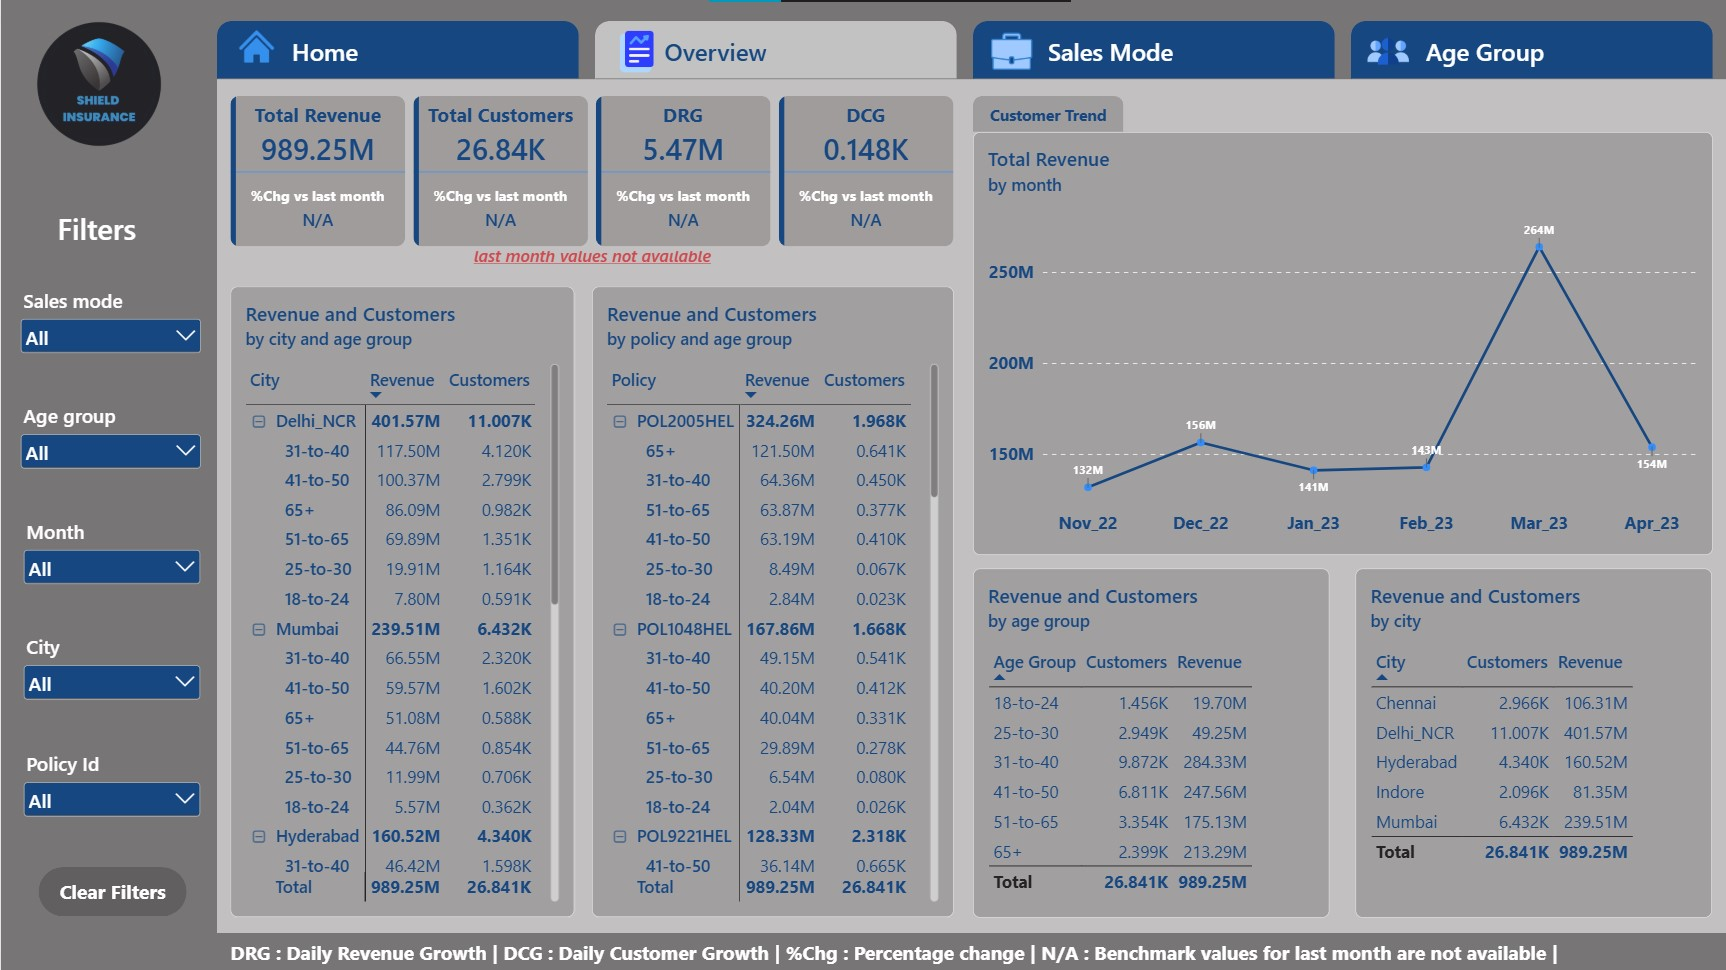

Layout of this report page (visuals, bound fields, positions):
{"tool":"powerbi","page":{"name":" Overview","canvas":[1920,1080],"ordinal":1},"visuals":[{"type":"lineChart","title":"Total Revenue","fields":{"Category":["dim_date.mmm_yy"],"Y":["key_measures.total_revenue"]},"box":[1080.7,147.3,822,469.7],"z":0,"group":"g1"},{"type":"tableEx","title":"Revenue and Customers","fields":{"Values":["dim_customer.city","key_measures.total_customers","key_measures.total_revenue"]},"box":[1504.6,630.9,396.1,388.1],"z":0},{"type":"actionButton","box":[1080.7,107.5,167.2,39.8],"z":1000,"group":"g1"},{"type":"tableEx","title":"Revenue and Customers","fields":{"Values":["dim_age_group.age_group","key_measures.total_customers","key_measures.total_revenue"]},"box":[1080.7,630.9,396.1,388.1],"z":1000},{"type":"pivotTable","title":"Revenue and Customers","fields":{"Rows":["dim_customer.city","dim_age_group.age_group"],"Values":["key_measures.total_revenue","key_measures.total_customers"]},"box":[254.7,318.4,382.1,700.6],"z":2000},{"type":"shape","box":[0,0,240,1080],"z":3000},{"type":"slicer","fields":{"Values":["fact_premiums.sales_mode"]},"box":[16,318.8,210,84],"z":4000},{"type":"slicer","fields":{"Values":["dim_age_group.age_group"]},"box":[16,447.1,210,84],"z":5000},{"type":"slicer","fields":{"Values":["dim_customer.city"]},"box":[20,703.5,206,86],"z":6000},{"type":"slicer","fields":{"Values":["dim_date.mmm_yy"]},"box":[20,575.3,206,84],"z":7000},{"type":"slicer","fields":{"Values":["dim_policies.policy_id"]},"box":[20,833.8,206,86],"z":8000},{"type":"image","box":[33.3,17.7,151,150],"z":9000},{"type":"shape","box":[240,0,1680,88],"z":10000},{"type":"pageNavigator","box":[240,24,1664,64],"z":11000},{"type":"actionButton","box":[42,964,164.7,54.9],"z":12000},{"type":"textbox","box":[58.8,231.4,96.1,43.1],"z":13000},{"type":"cardVisual","fields":{"Data":["key_measures.total_revenue","key_measures.total_customers","key_measures.DRG","key_measures.DCG"]},"box":[254.7,107.5,804,167.2],"z":14000},{"type":"shape","box":[240.8,1036.9,1679.7,43.8],"z":15000},{"type":"textbox","box":[254.7,1042.9,1649.9,29.9],"z":16000},{"type":"pivotTable","title":"Revenue and Customers","fields":{"Rows":["dim_policies.policy_id","dim_age_group.age_group"],"Values":["key_measures.total_revenue","key_measures.total_customers"]},"box":[656.8,318.4,402,700.6],"z":17000},{"type":"card","fields":{"Values":["key_measures.BM message"]},"box":[254.7,262,804,43.8],"z":18000},{"type":"group","id":"g1","title":"Revenue Trend","box":[1080.7,107.5,822,509.5],"z":19000},{"type":"image","box":[254.7,19.9,57.7,63.7],"z":21000},{"type":"image","box":[682.6,27.9,45.8,57.7],"z":22000},{"type":"image","box":[1100.6,29.9,45.8,53.7],"z":23000},{"type":"image","box":[1518.5,29.9,45.8,53.7],"z":24000}]}

Visuals, with their boxes in screenshot pixels (x1, y1, x2, y2), scaled from the page's 1920x1080 canvas onto the 1726x970 screenshot:
"Total Revenue" lineChart: <box>972,132,1710,554</box>
"Revenue and Customers" tableEx: <box>1353,567,1709,915</box>
actionButton: <box>972,97,1122,132</box>
"Revenue and Customers" tableEx: <box>972,567,1328,915</box>
"Revenue and Customers" pivotTable: <box>229,286,572,915</box>
shape: <box>0,0,216,969</box>
slicer - fact_premiums.sales_mode: <box>14,286,203,362</box>
slicer - dim_age_group.age_group: <box>14,402,203,477</box>
slicer - dim_customer.city: <box>18,632,203,709</box>
slicer - dim_date.mmm_yy: <box>18,517,203,592</box>
slicer - dim_policies.policy_id: <box>18,749,203,826</box>
image: <box>30,16,166,151</box>
shape: <box>216,0,1725,79</box>
pageNavigator: <box>216,22,1712,79</box>
actionButton: <box>38,866,186,915</box>
textbox: <box>53,208,139,247</box>
cardVisual - key_measures.total_revenue x key_measures.total_customers: <box>229,97,952,247</box>
shape: <box>216,931,1725,969</box>
textbox: <box>229,937,1712,964</box>
"Revenue and Customers" pivotTable: <box>590,286,952,915</box>
card - key_measures.BM message: <box>229,235,952,275</box>
"Revenue Trend" group: <box>972,97,1710,554</box>
image: <box>229,18,281,75</box>
image: <box>614,25,655,77</box>
image: <box>989,27,1031,75</box>
image: <box>1365,27,1406,75</box>
